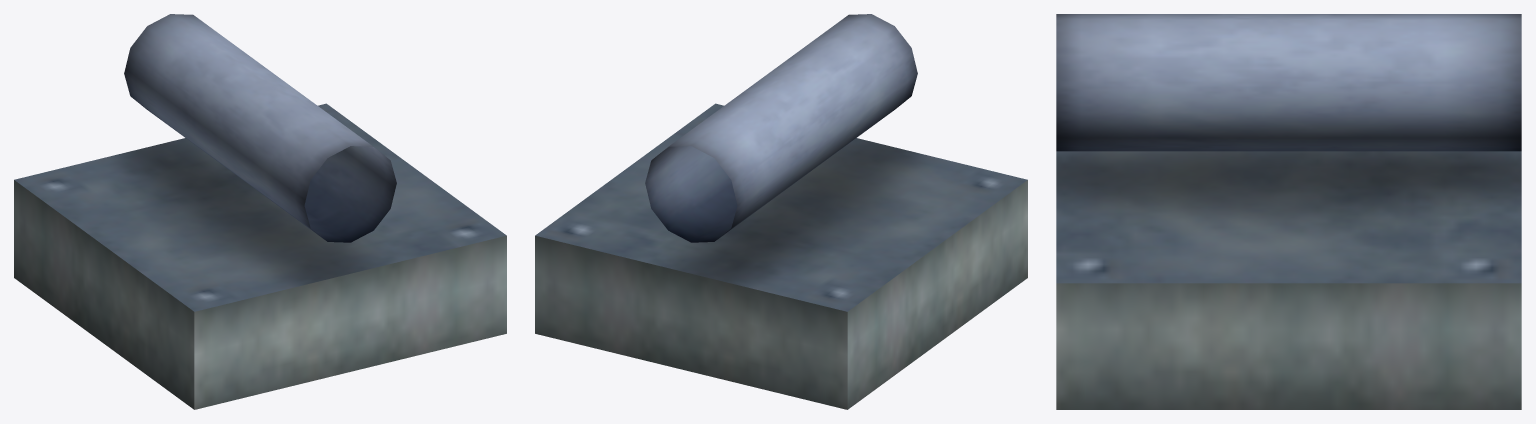
Rendered from ss_tile_pipe_ns.obj.
3 views of the same model, side by side, from view 1: azimuth 30°, elevation 25°; view 2: azimuth 150°, elevation 25°; view 3: azimuth 270°, elevation 25° (orthographic). The views are drawn at different scales.
Visible parts, largest first — view 1: tile_boundary02; view 2: tile_boundary02; view 3: tile_boundary02.
Boxes of the visible parts, bbox=[...] form: tile_boundary02: bbox=[14, 14, 506, 409]; tile_boundary02: bbox=[535, 14, 1027, 409]; tile_boundary02: bbox=[1056, 14, 1521, 409].
Size of the model in its own units: 1 by 0.6905 by 1.
